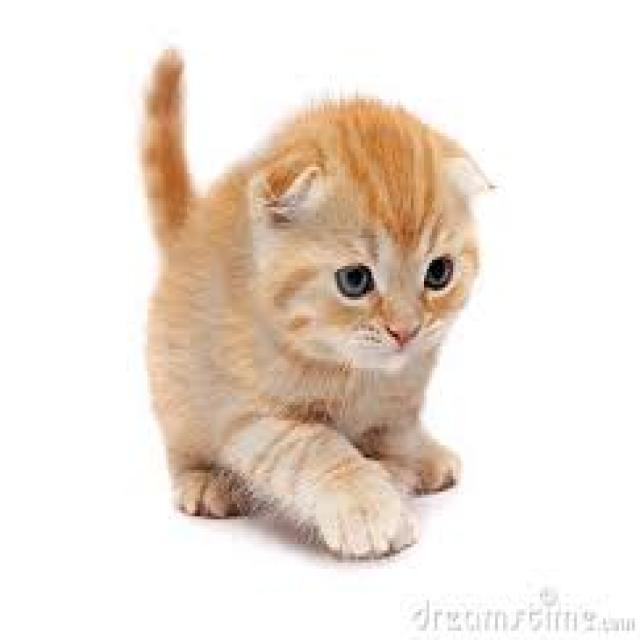cat-face: (172, 67, 572, 466)
